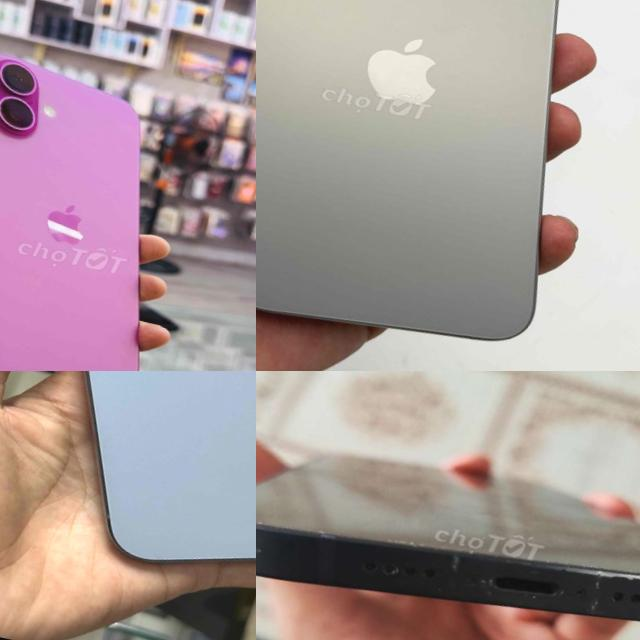scratch: (256, 496, 471, 577), (536, 534, 640, 605), (256, 529, 293, 588)
